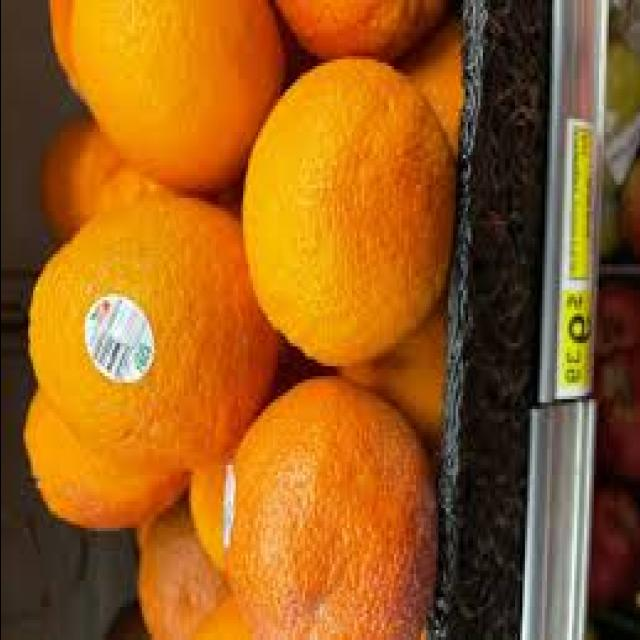orange: (0, 198, 269, 495)
